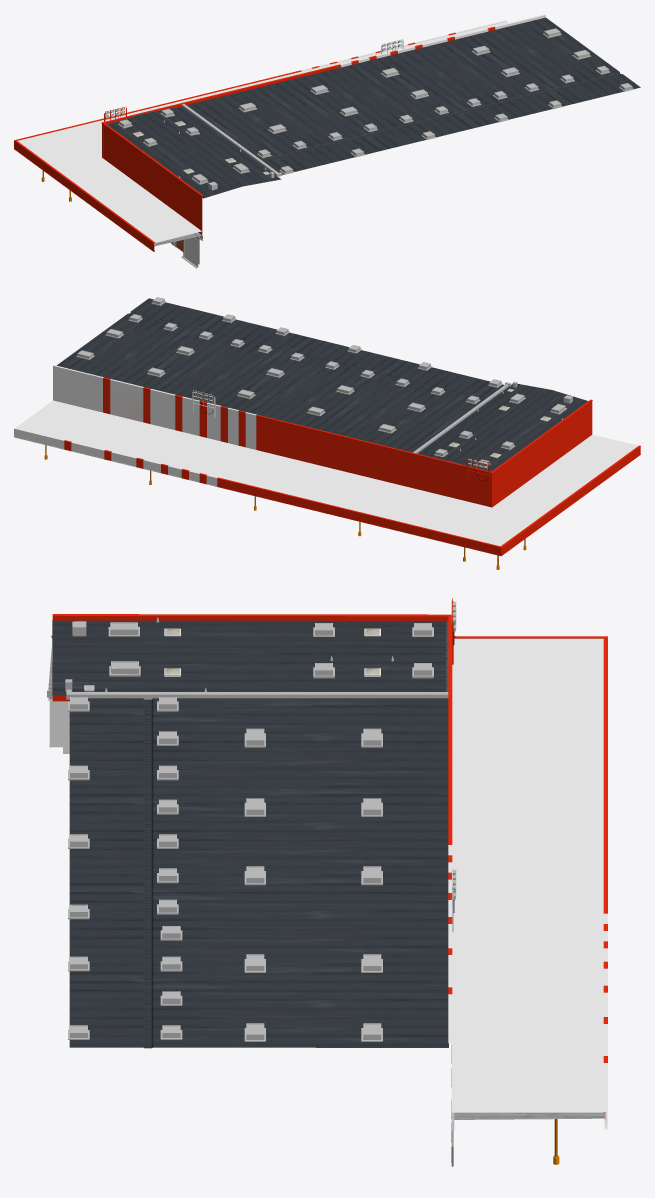
File: SM_TNTBuilding_Part08.fbx
3 renders of one model, top to bottom at view 1: azimuth 30°, elevation 25°; view 2: azimuth 150°, elevation 25°; view 3: azimuth 270°, elevation 25°, orthographic. The views are drawn at different scales.
Visible parts, largest first — view 1: SM_TNTBuilding_Part08_LOD0; view 2: SM_TNTBuilding_Part08_LOD0; view 3: SM_TNTBuilding_Part08_LOD0.
Part boxes in pixels (x1,y1,x2,y2): SM_TNTBuilding_Part08_LOD0: [14, 14, 640, 268]; SM_TNTBuilding_Part08_LOD0: [14, 297, 640, 569]; SM_TNTBuilding_Part08_LOD0: [47, 598, 607, 1166].
Size of what is drawn, in the model's own units: 12818 by 1988 by 6348.
